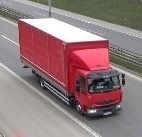truck: (18, 18, 121, 118)
